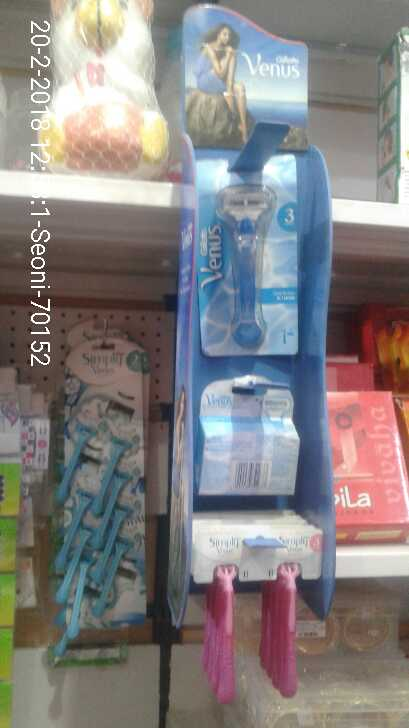home: (196, 166, 305, 364)
